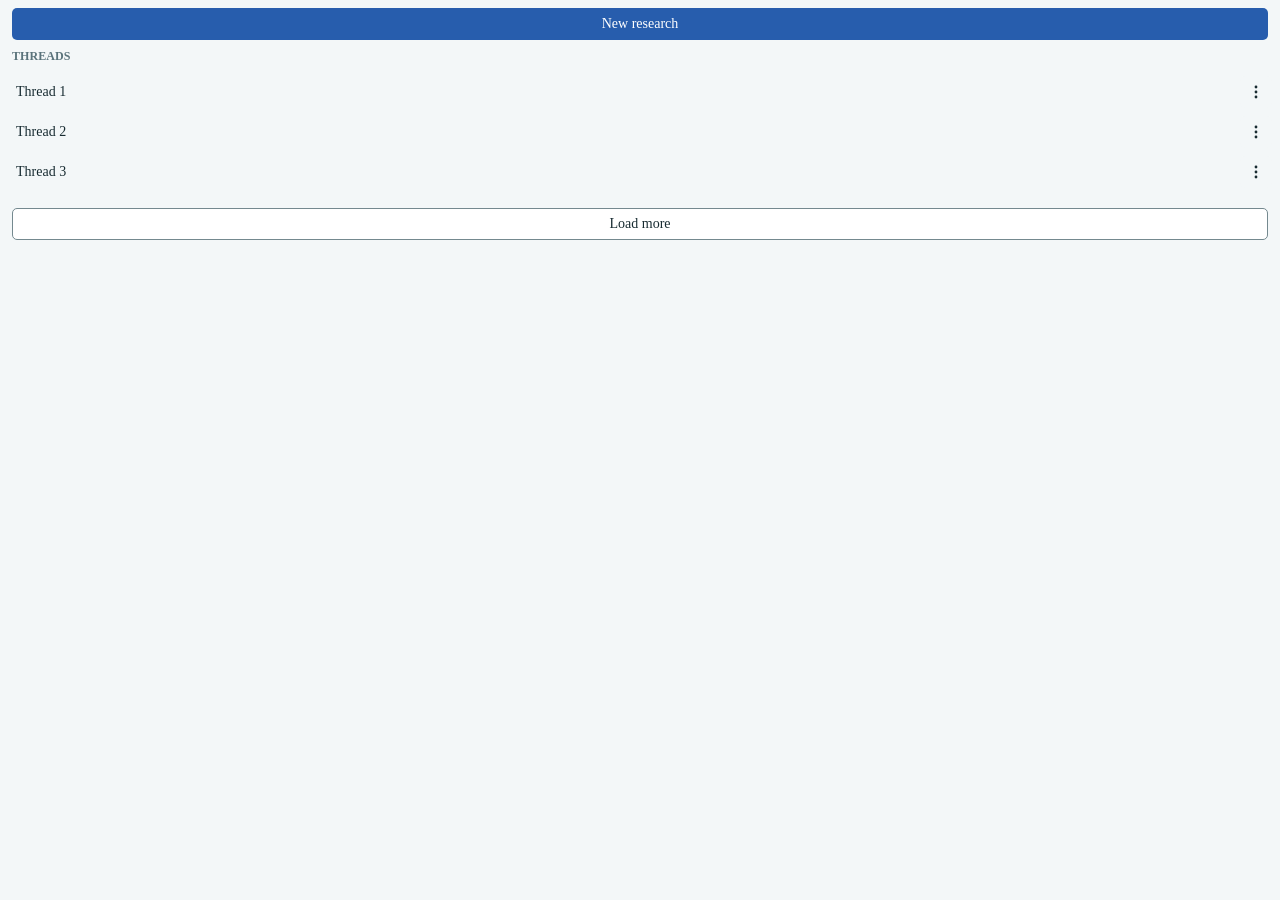
Test case: criterion 3 — deletion, end to end › asks first, then removes the row optimistically and sends one DELETE
The image size is (1280, 900).
Expected: the link "Thread 1" is shown, [16, 84, 66, 99]
Click the button named "Thread actions: Thread 2". click: coordinates (1256, 132)
box: [1240, 116, 1272, 148]
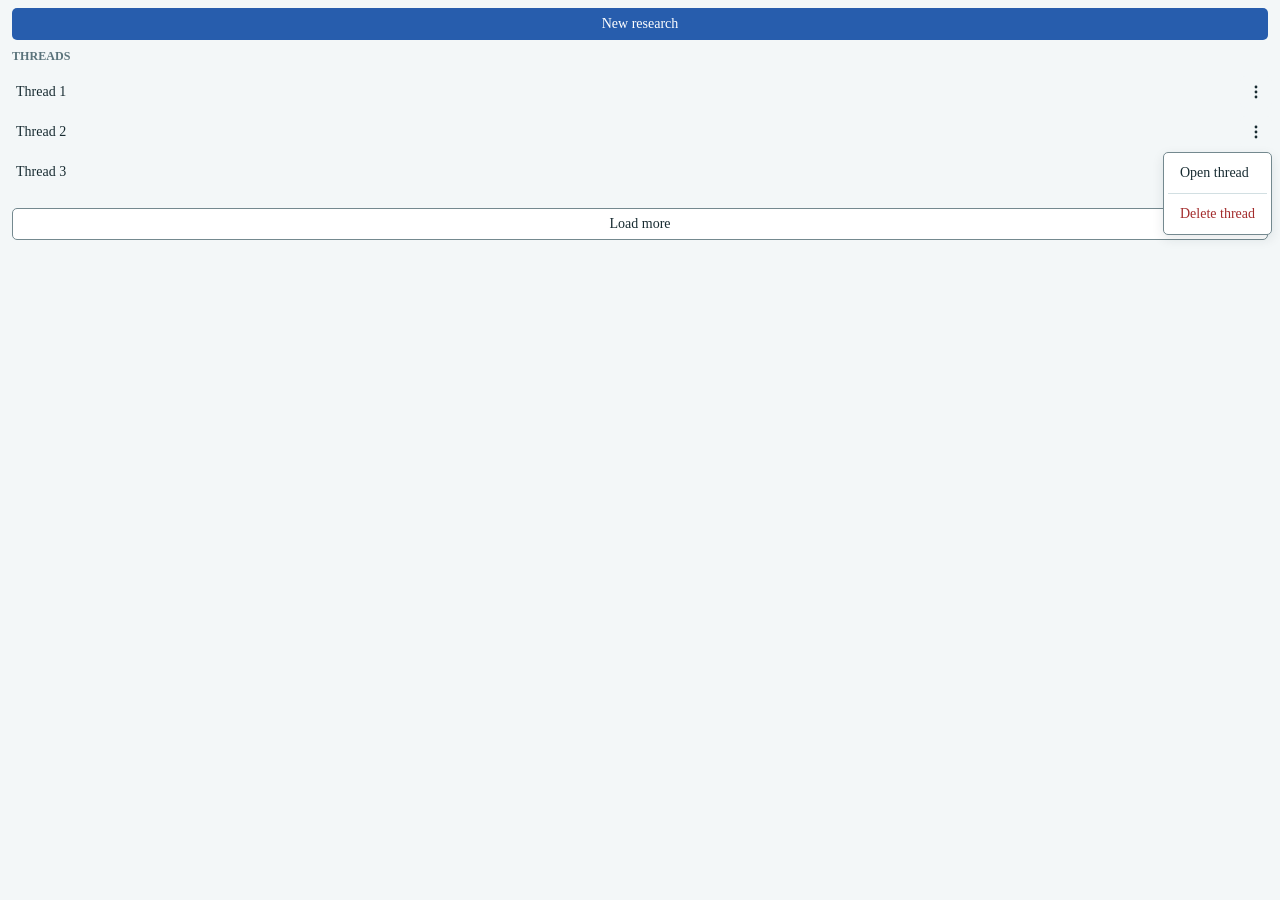
Click the menu item "Delete thread". click: coordinates (1218, 214)
box: [1180, 206, 1255, 221]
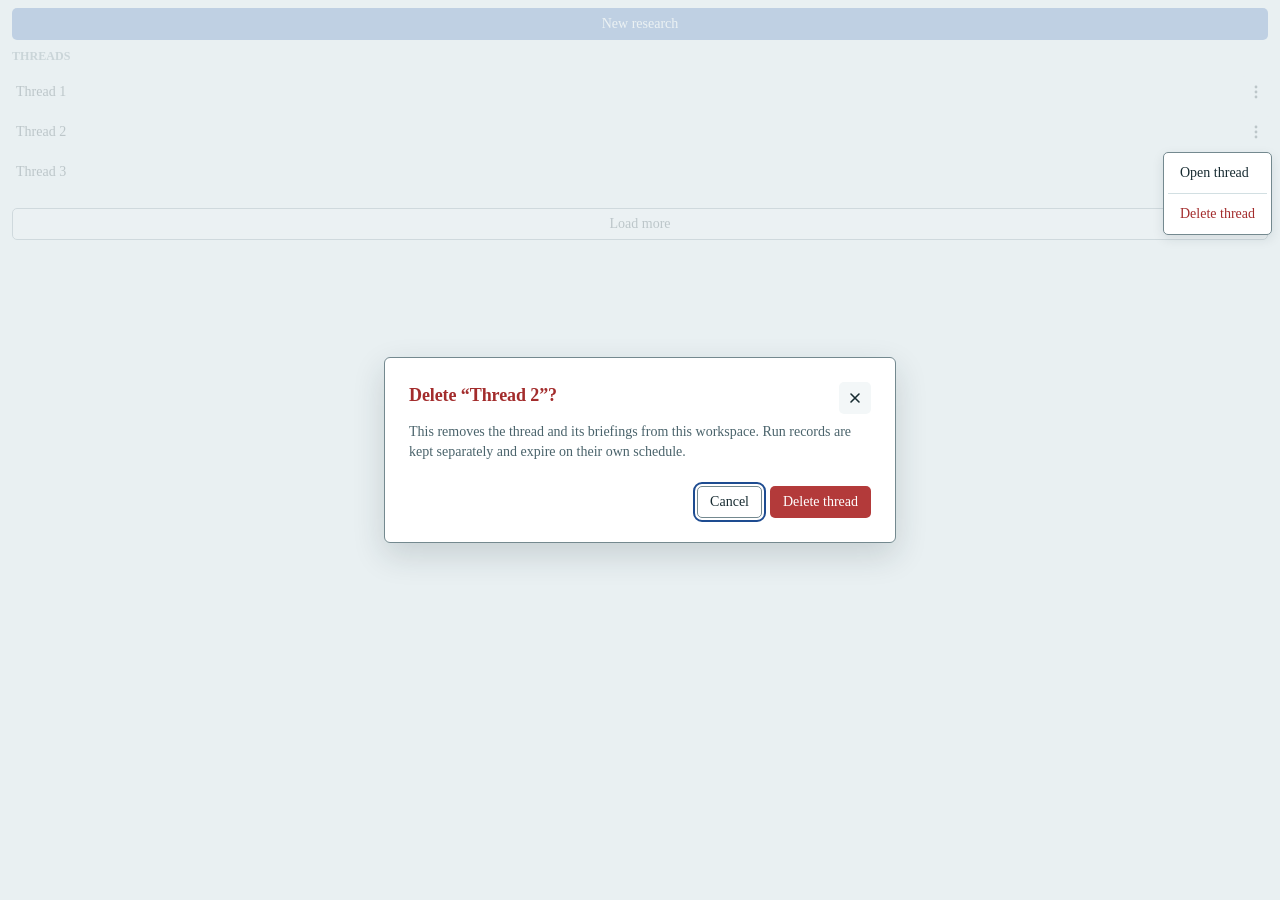
Expected: the dialog is shown, [384, 357, 896, 543]
Expected: the dialog shows "This removes the thread and its briefings from this workspace. Run records are kept separately and expire on their own schedule.", [409, 424, 851, 459]
Click the button "Delete thread". click: coordinates (820, 502)
box: [770, 486, 871, 518]
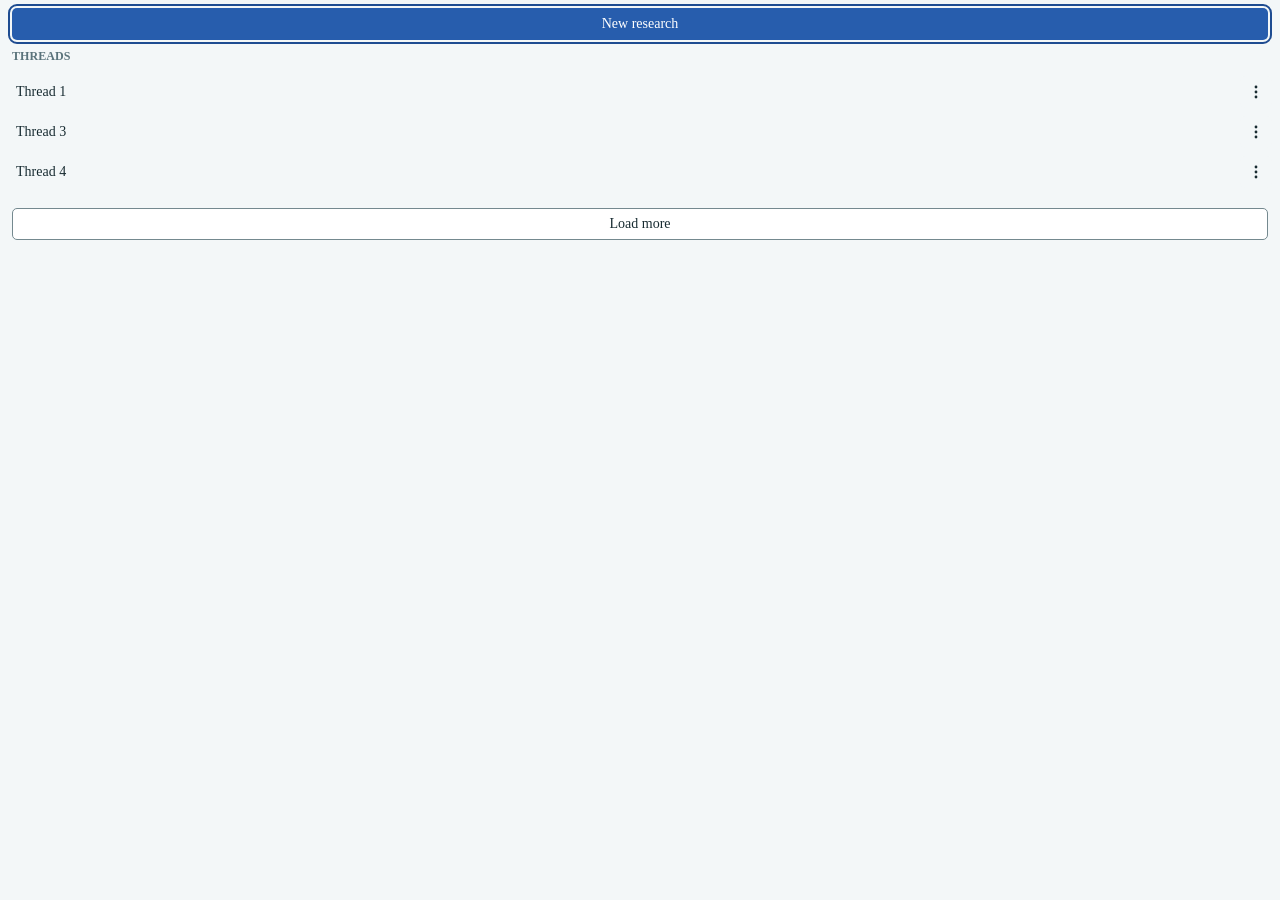
Expected: the link "Thread 2" is gone
